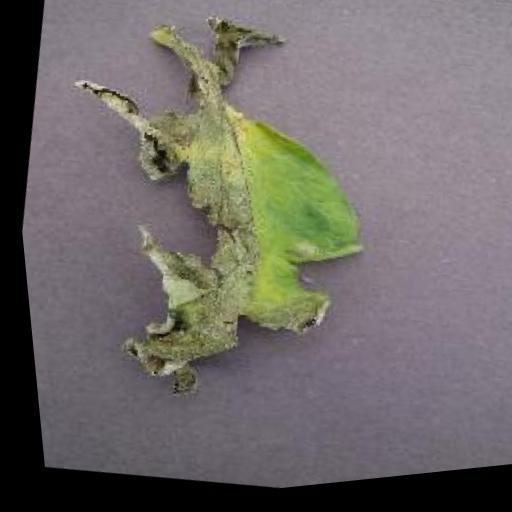Late Blight: (13, 0, 413, 446)
